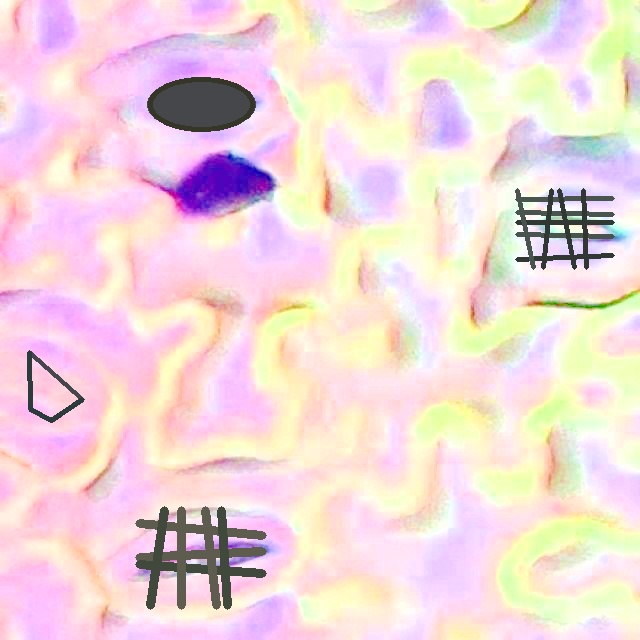close: (28, 350, 84, 422)
open: (135, 506, 266, 609), (515, 188, 614, 269), (146, 77, 256, 131)
